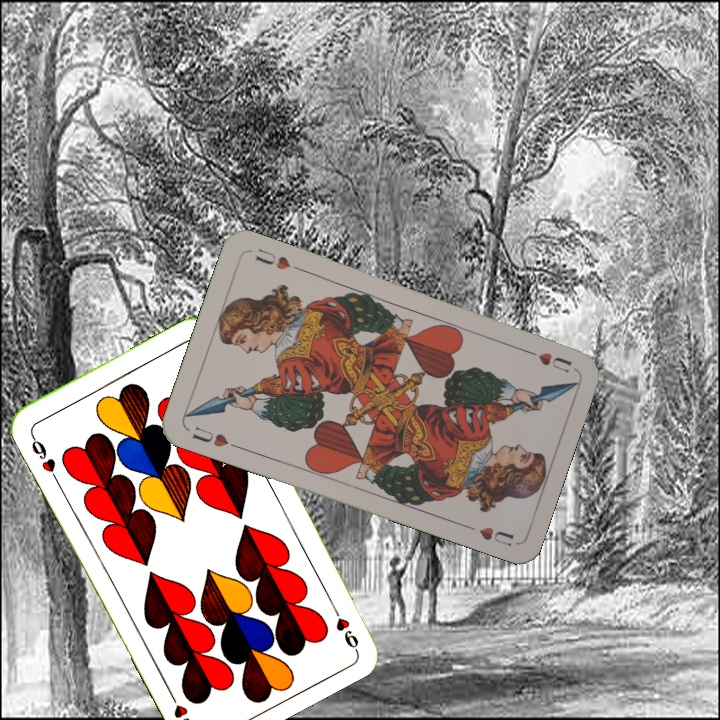H9: (26, 429, 61, 484), (326, 597, 361, 652)
HU: (519, 344, 574, 375), (187, 422, 242, 451)
